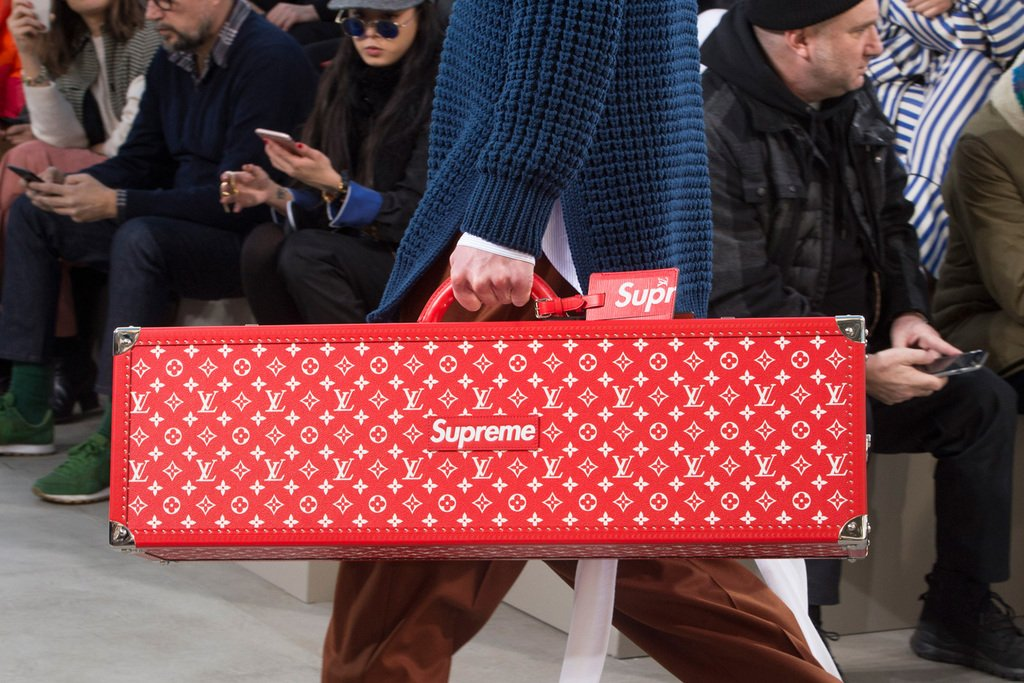LOUIS-VUITTON: (327, 455, 358, 483)
